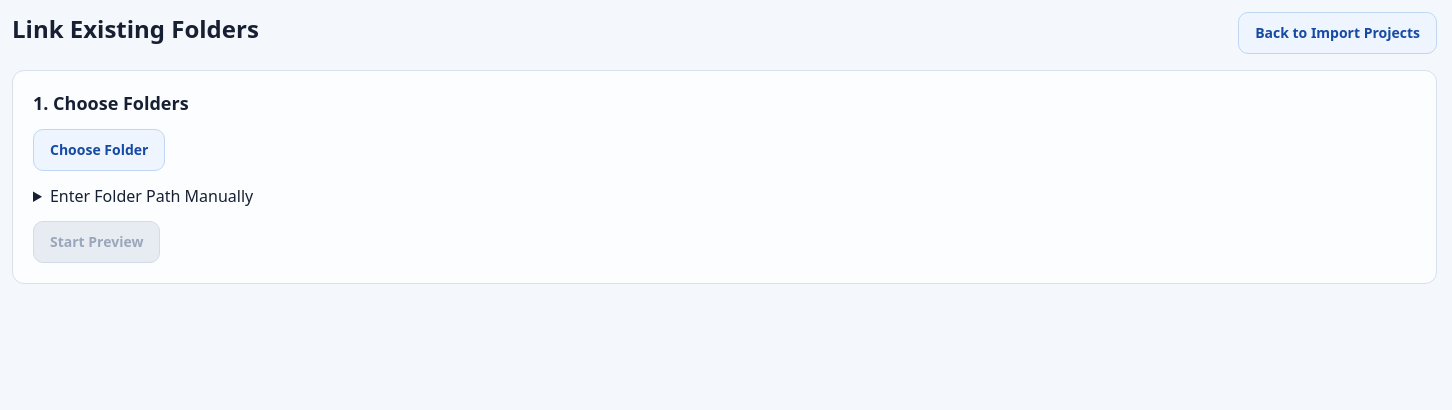
Test: LegacyProjectPreview › preserves chosen directories after failure and ignores a late response after stop
Step 1. Click the button "Choose Folder" → (99, 150), box [33,129,165,171]
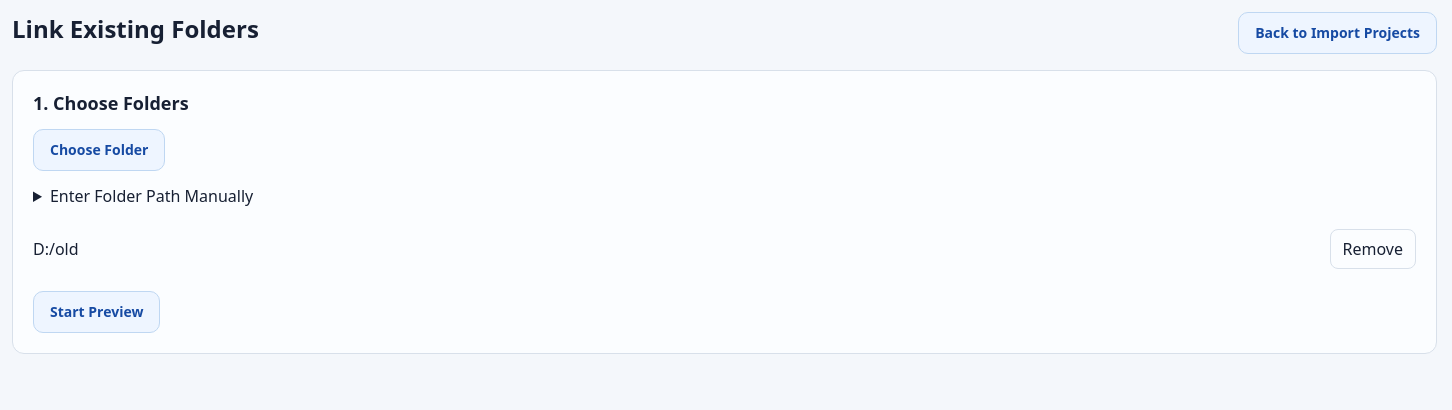
Step 2. Click the button "Start Preview" → (97, 312), box [33,291,160,333]
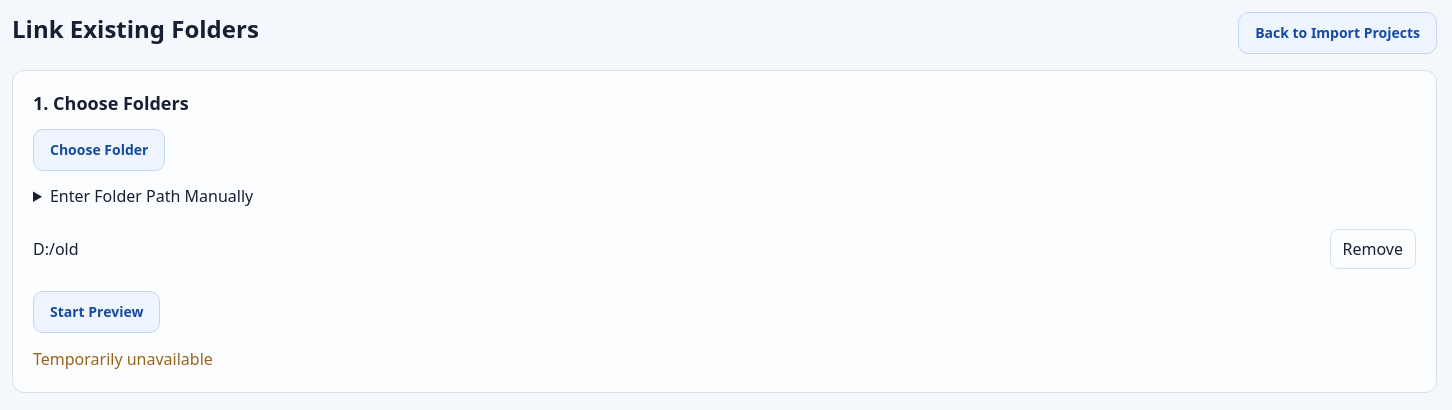
Result: the text "D:/old" is shown at [33,238,79,260]
Result: the message reads "Temporarily unavailable" at [33,348,213,370]
Step 3. Click the button "Start Preview" → (97, 312), box [33,291,160,333]
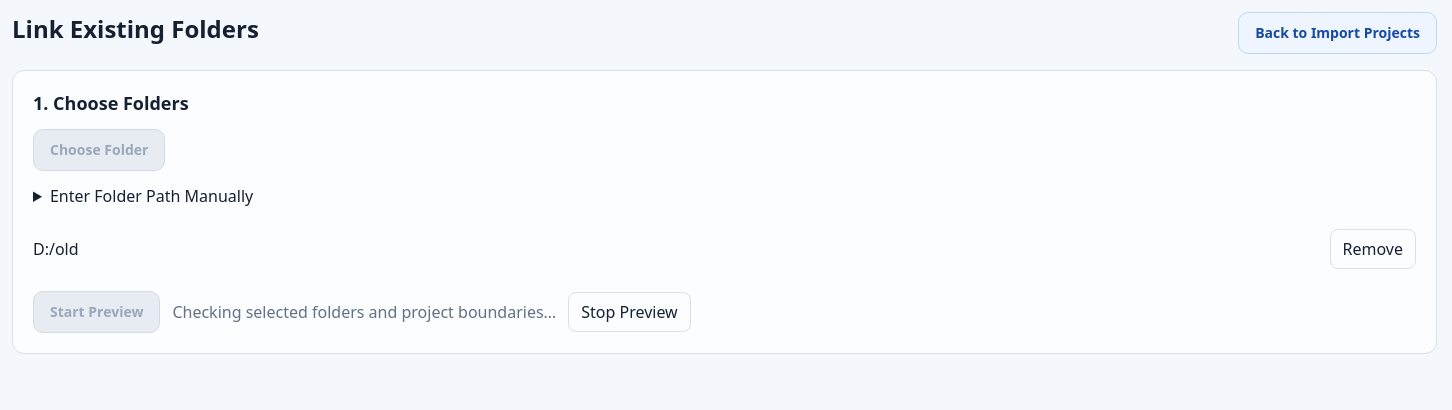
Step 4. Click the button "Stop Preview" → (629, 312), box [568,292,691,332]
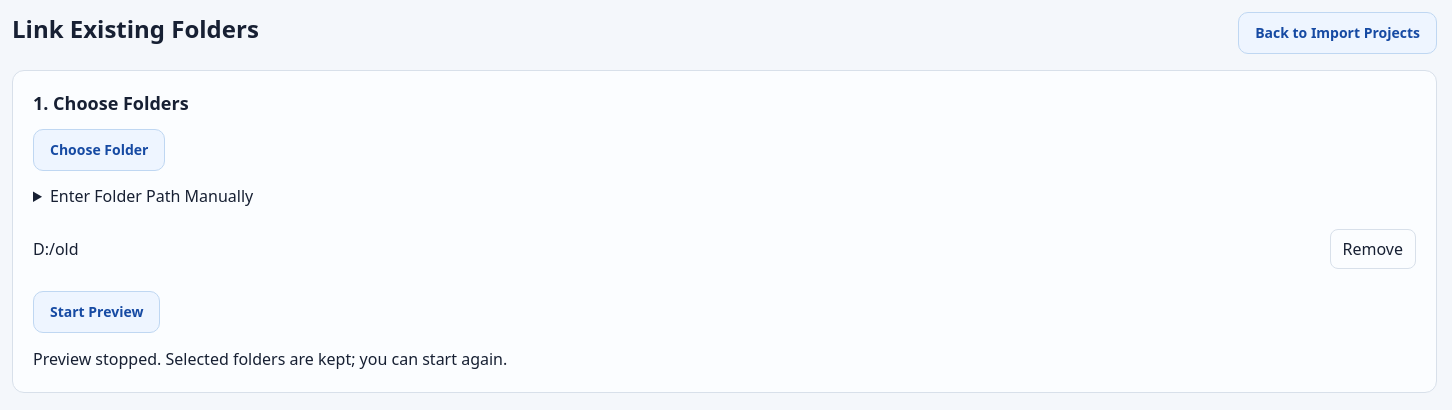
Result: the text "Preview stopped. Selected folders are kept; you can start again." is shown at [33,348,507,370]
